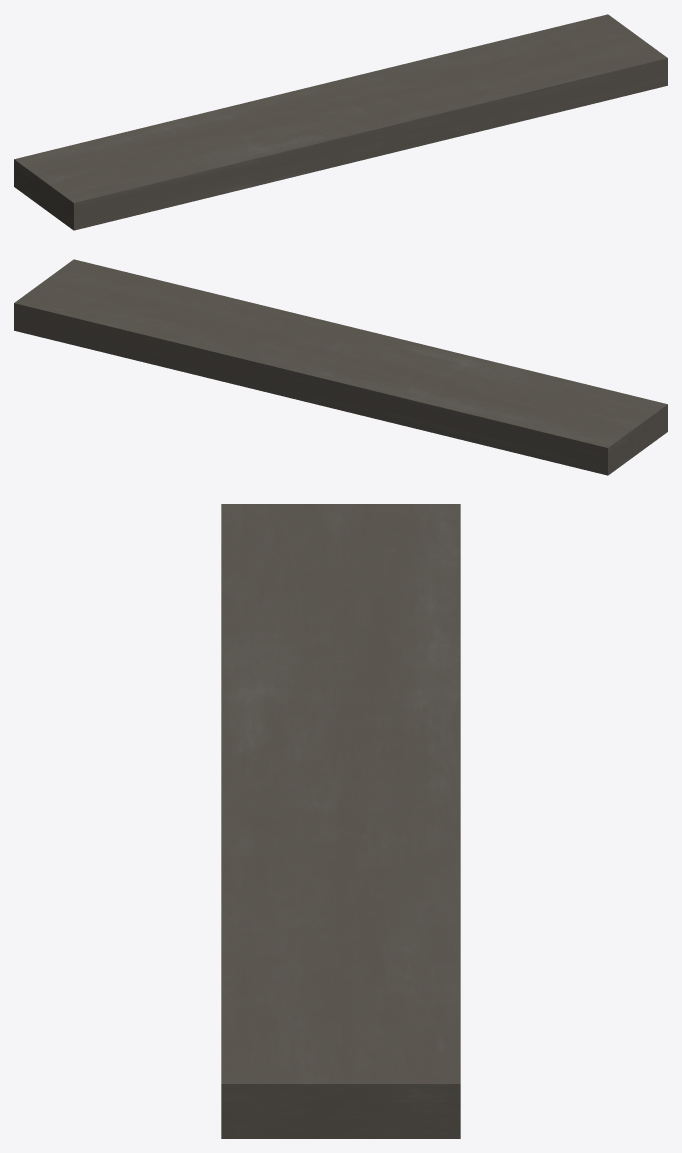
Rendered from light1.fbx.
3 views of the same model, one above another, from view 1: azimuth 30°, elevation 25°; view 2: azimuth 150°, elevation 25°; view 3: azimuth 270°, elevation 25° (orthographic). The views are drawn at different scales.
Visible parts, largest first — view 1: pCube41; view 2: pCube41; view 3: pCube41.
Boxes of the visible parts, x1=… form: pCube41: x1=14, y1=14, x2=667, y2=230; pCube41: x1=14, y1=259, x2=667, y2=475; pCube41: x1=221, y1=504, x2=460, y2=1138.
Bounding box in the file's own units: 36.54 × 1.62 × 6.38.
Materials: 1 (1 with a texture image).
